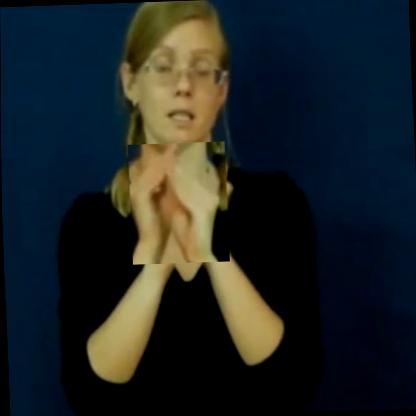Fix: (128, 141, 230, 265)
